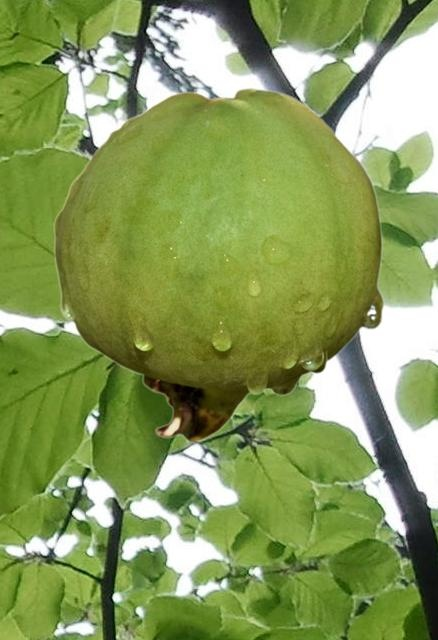guava: (53, 87, 383, 441)
